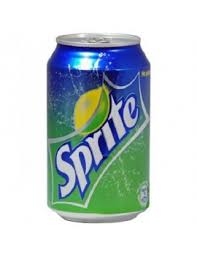sprite_can: (46, 33, 151, 222)
